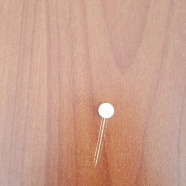Yuvarlak Buskopan: (97, 101, 115, 121)
